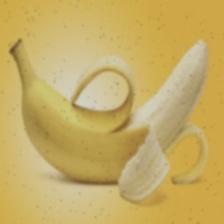banana: (19, 32, 176, 175)
